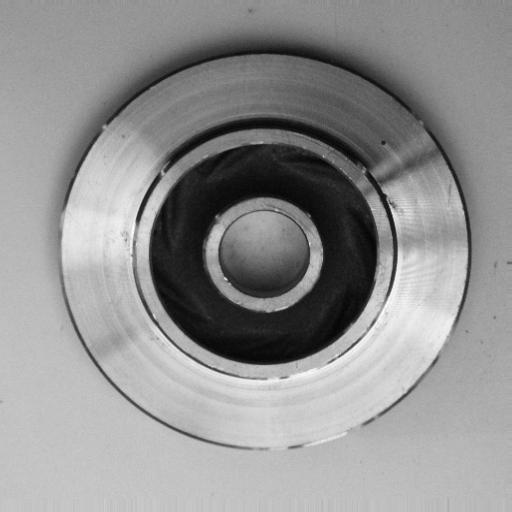crack: (353, 159, 417, 219)
scratch: (257, 418, 368, 465), (248, 350, 343, 394)
unpolished_casting: (60, 50, 473, 455)
